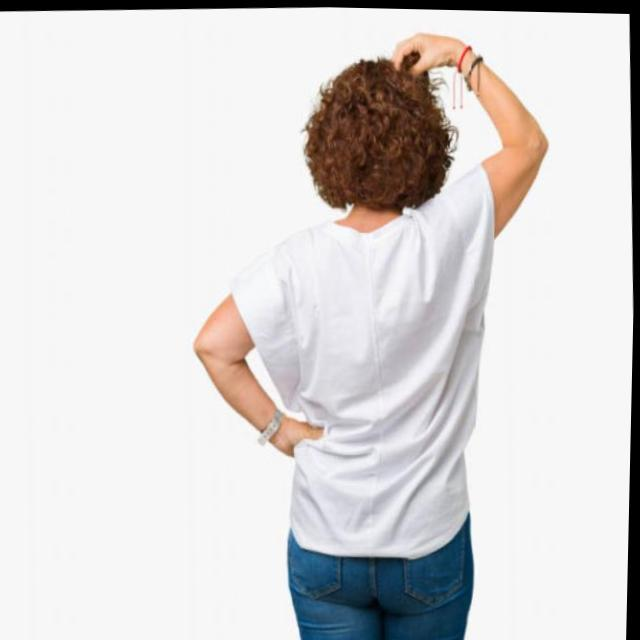no helmet: (291, 53, 479, 233)
